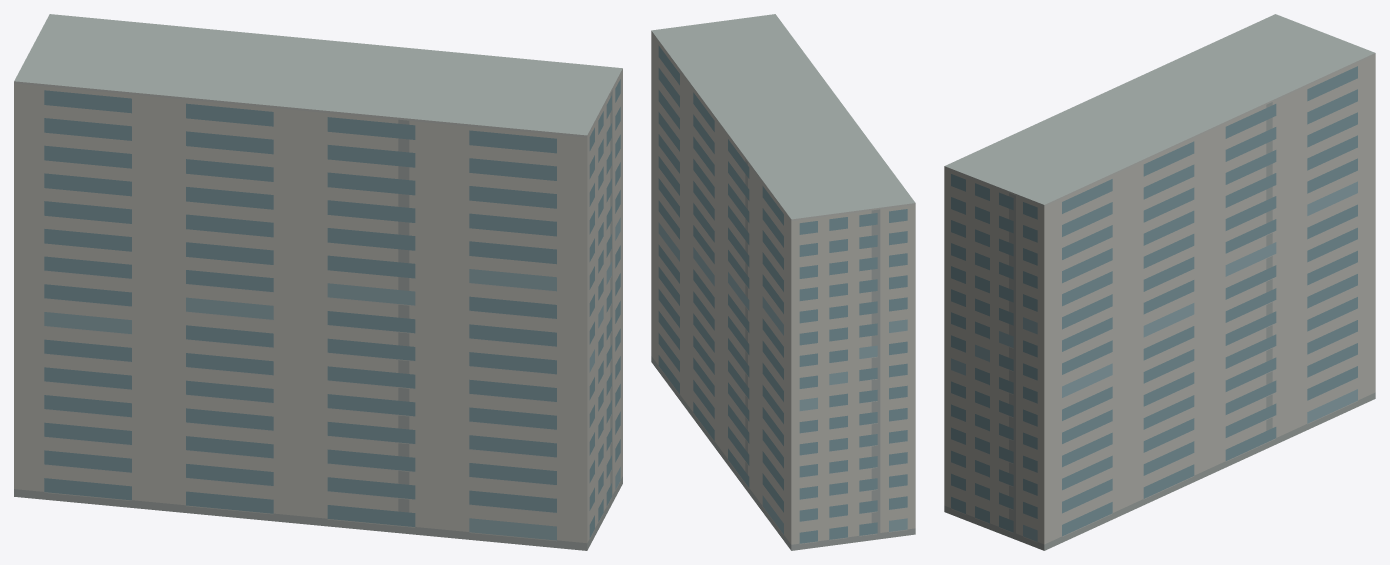
Rendered from residential-4c07893e-fc90-4879-bea1-791ff157eca9.glb.
The picture shows the model from 3 angles, left to right: view 1: azimuth 30°, elevation 25°; view 2: azimuth 150°, elevation 25°; view 3: azimuth 270°, elevation 25°; orthographic projection. The views are drawn at different scales.
Parts seen in each view (by area): view 1: residential-4c07893e-fc90-4879-bea1-791ff157eca9.tmp; view 2: residential-4c07893e-fc90-4879-bea1-791ff157eca9.tmp; view 3: residential-4c07893e-fc90-4879-bea1-791ff157eca9.tmp.
Boxes of the visible parts, <box> form: residential-4c07893e-fc90-4879-bea1-791ff157eca9.tmp: <box>14,14,622,550</box>; residential-4c07893e-fc90-4879-bea1-791ff157eca9.tmp: <box>651,14,915,550</box>; residential-4c07893e-fc90-4879-bea1-791ff157eca9.tmp: <box>944,14,1375,550</box>.
Bounding box in the file's own units: 58.02 × 49 × 55.33.
